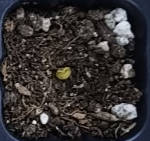chilli seed: (55, 66, 71, 79)
